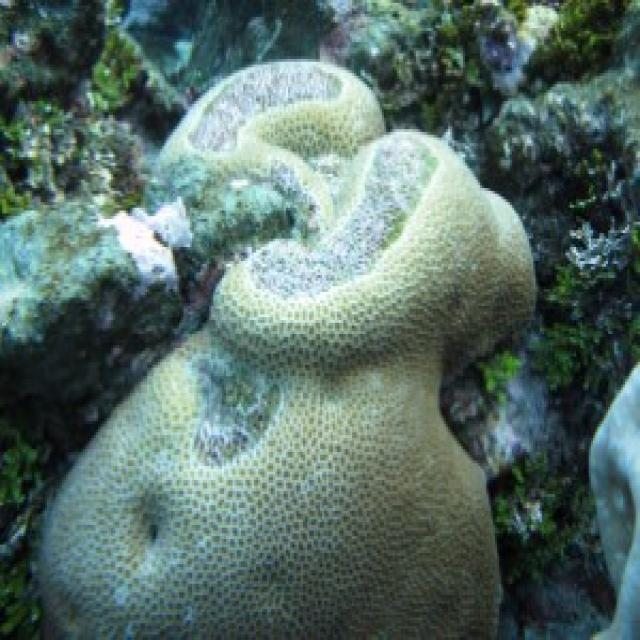Bleached: (37, 327, 498, 638), (212, 130, 500, 366), (159, 60, 385, 231)
